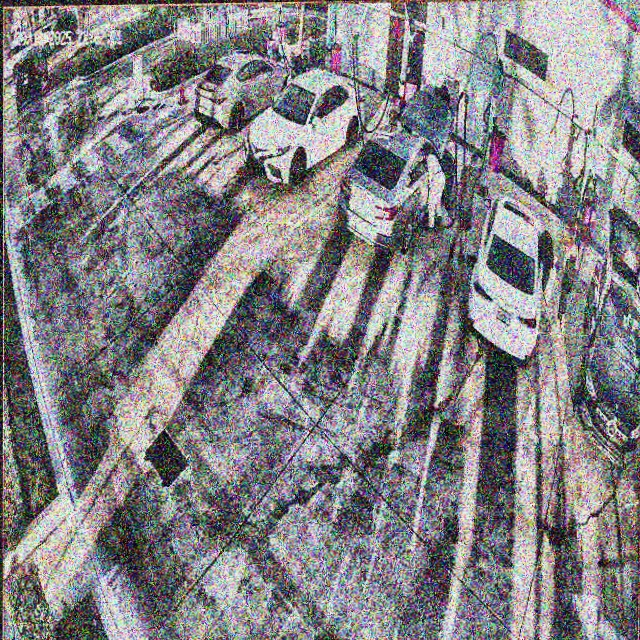Car: (339, 85, 445, 251), (244, 65, 367, 187), (469, 198, 550, 369)
